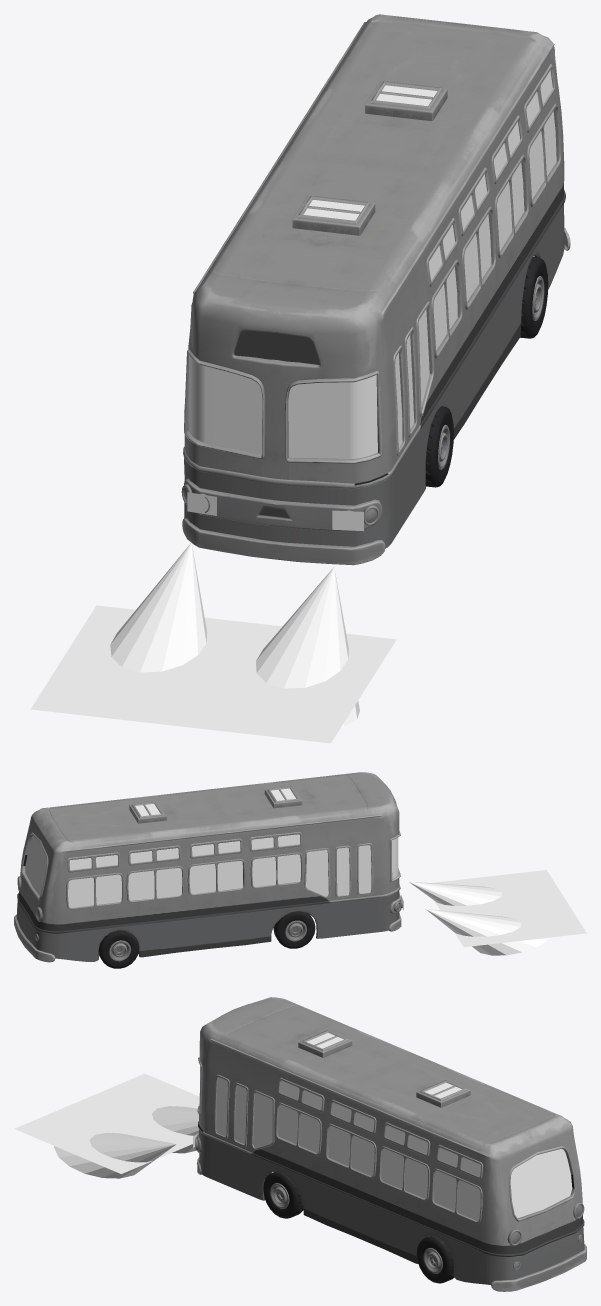
The model's file is BUS.fbx.
The picture shows the model from 3 angles, top to bottom: view 1: azimuth 30°, elevation 25°; view 2: azimuth 150°, elevation 25°; view 3: azimuth 270°, elevation 25°; orthographic projection. The views are drawn at different scales.
Parts seen in each view (by area): view 1: Bus, Quad, Quad (1), Cone, Cone (1), busParts50, busParts35, busParts12, busParts13, busParts19, busParts53, busParts16 (+6 smaller); view 2: Bus, Quad, Quad (1), Cone, glass7, Cone (1), glass10, glass6, glass3, glass1, glass2, wheelTire (+22 smaller); view 3: Bus, Quad, Quad (1), busParts20, Cone (1), glass10 1, glass6 1, glass7 1, glass3 1, glass1 1, Cone, busParts18 (+19 smaller).
Part boxes in pixels (bbox=[...]): Bus: bbox=[183, 14, 565, 548]; Quad: bbox=[167, 621, 396, 743]; Quad (1): bbox=[30, 605, 260, 724]; Cone: bbox=[110, 542, 207, 672]; Cone (1): bbox=[256, 567, 359, 727]; busParts50: bbox=[288, 375, 377, 459]; busParts35: bbox=[188, 355, 262, 454]; busParts12: bbox=[184, 478, 382, 531]; busParts13: bbox=[182, 518, 385, 565]; busParts19: bbox=[234, 330, 319, 364]; busParts53: bbox=[292, 195, 375, 235]; busParts16: bbox=[365, 81, 447, 121]; Bus: bbox=[16, 772, 400, 961]; Quad: bbox=[433, 870, 568, 914]; Quad (1): bbox=[454, 904, 586, 947]; Cone: bbox=[425, 909, 549, 955]; glass7: bbox=[128, 868, 182, 900]; Cone (1): bbox=[409, 881, 502, 905]; glass10: bbox=[68, 874, 121, 907]; glass6: bbox=[189, 861, 242, 894]; glass3: bbox=[252, 854, 300, 886]; glass1: bbox=[337, 845, 371, 895]; glass2: bbox=[306, 850, 328, 896]; wheelTire: bbox=[98, 930, 139, 968]; Bus: bbox=[197, 997, 584, 1284]; Quad: bbox=[14, 1099, 188, 1173]; Quad (1): bbox=[74, 1073, 199, 1148]; busParts20: bbox=[510, 1149, 572, 1218]; Cone (1): bbox=[54, 1132, 176, 1178]; glass10 1: bbox=[434, 1171, 480, 1221]; glass6 1: bbox=[328, 1126, 374, 1176]; glass7 1: bbox=[382, 1148, 427, 1198]; glass3 1: bbox=[278, 1104, 319, 1153]; glass1 1: bbox=[216, 1077, 246, 1144]; Cone: bbox=[152, 1106, 198, 1153]; busParts18: bbox=[491, 1244, 586, 1291].
Size of the model in its own units: 39.71 by 14.47 by 39.62.
